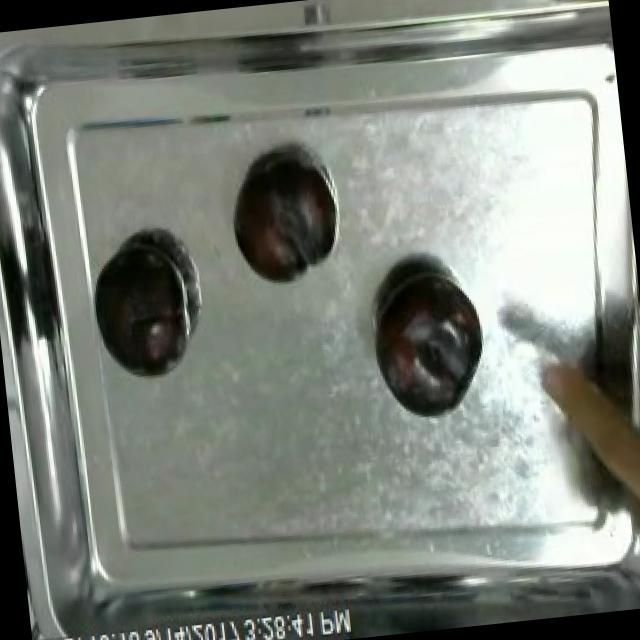Fruit: (361, 255, 497, 431), (86, 238, 194, 380), (224, 155, 338, 289), (537, 0, 610, 22)
